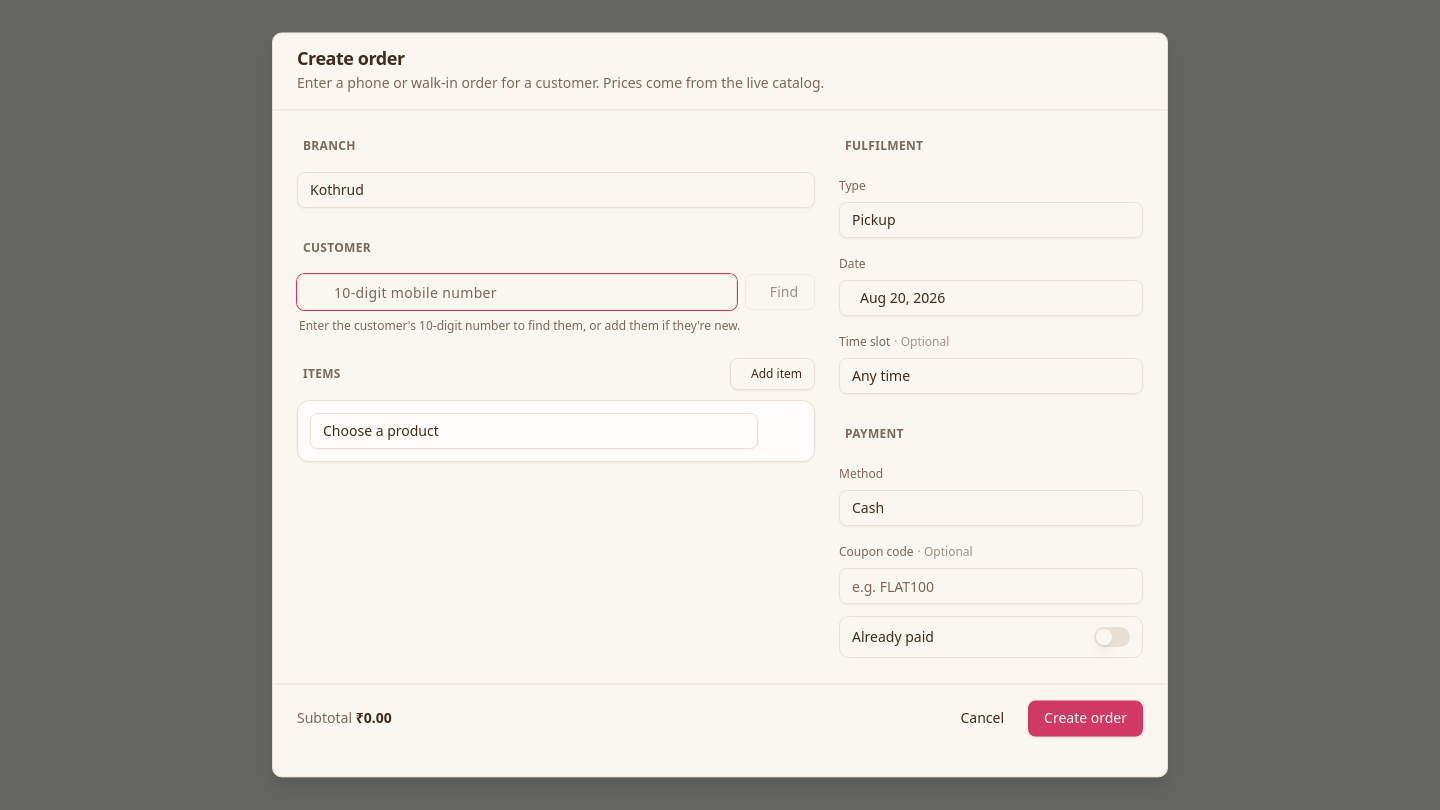
Test: CreateOrderDialog without the customer directory › says a staff-entered record is unconfirmed
The image size is (1440, 810).
Type "9812345678" into the field with placeholder "10-digit mobile number" at (517, 292), box [297,274,737,310]
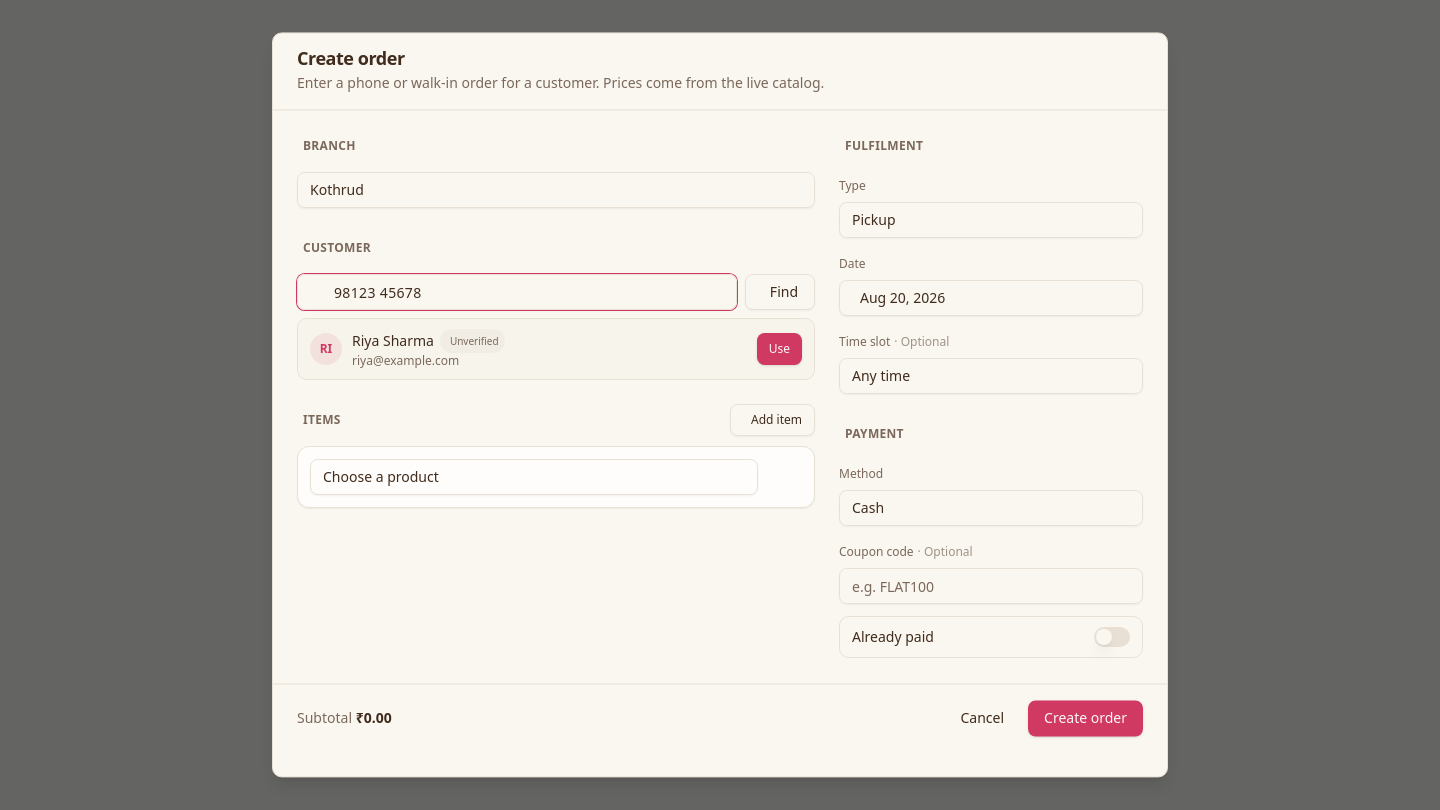
Check: the text "Unverified" is shown, box [440,329,505,353]
